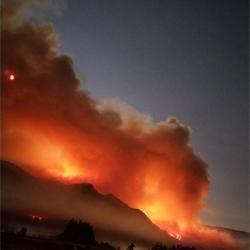fire: (139, 196, 170, 226), (53, 157, 80, 179)
